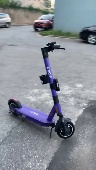beam: (6, 39, 76, 141)
